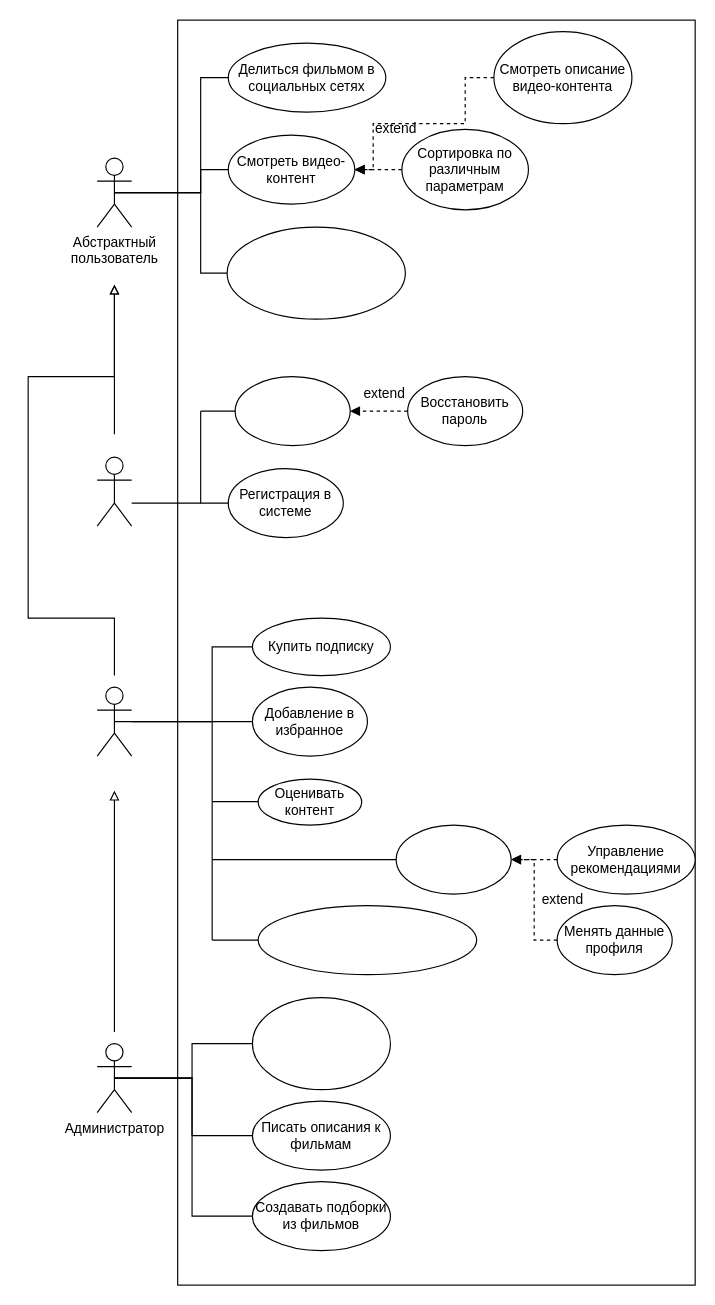
Some shapes in this 715 by 1305 pixel diagram are drawn without their labels. The shapes that lost their labels are listed below. From the top down, each one's box as (x1, y1, x2, y2) in pixels, then its label:
(226, 226, 405, 319): Без подписки смотреть рекламу
(234, 375, 350, 446): Авторизация
(96, 456, 132, 526): Гость
(96, 686, 132, 756): Пользователь
(395, 824, 511, 894): Управление профилем
(257, 904, 477, 975): Получать подборку, в зависимости от последних просмотренных фильмов
(251, 996, 390, 1090): Выкладывать фильмы на площадку
